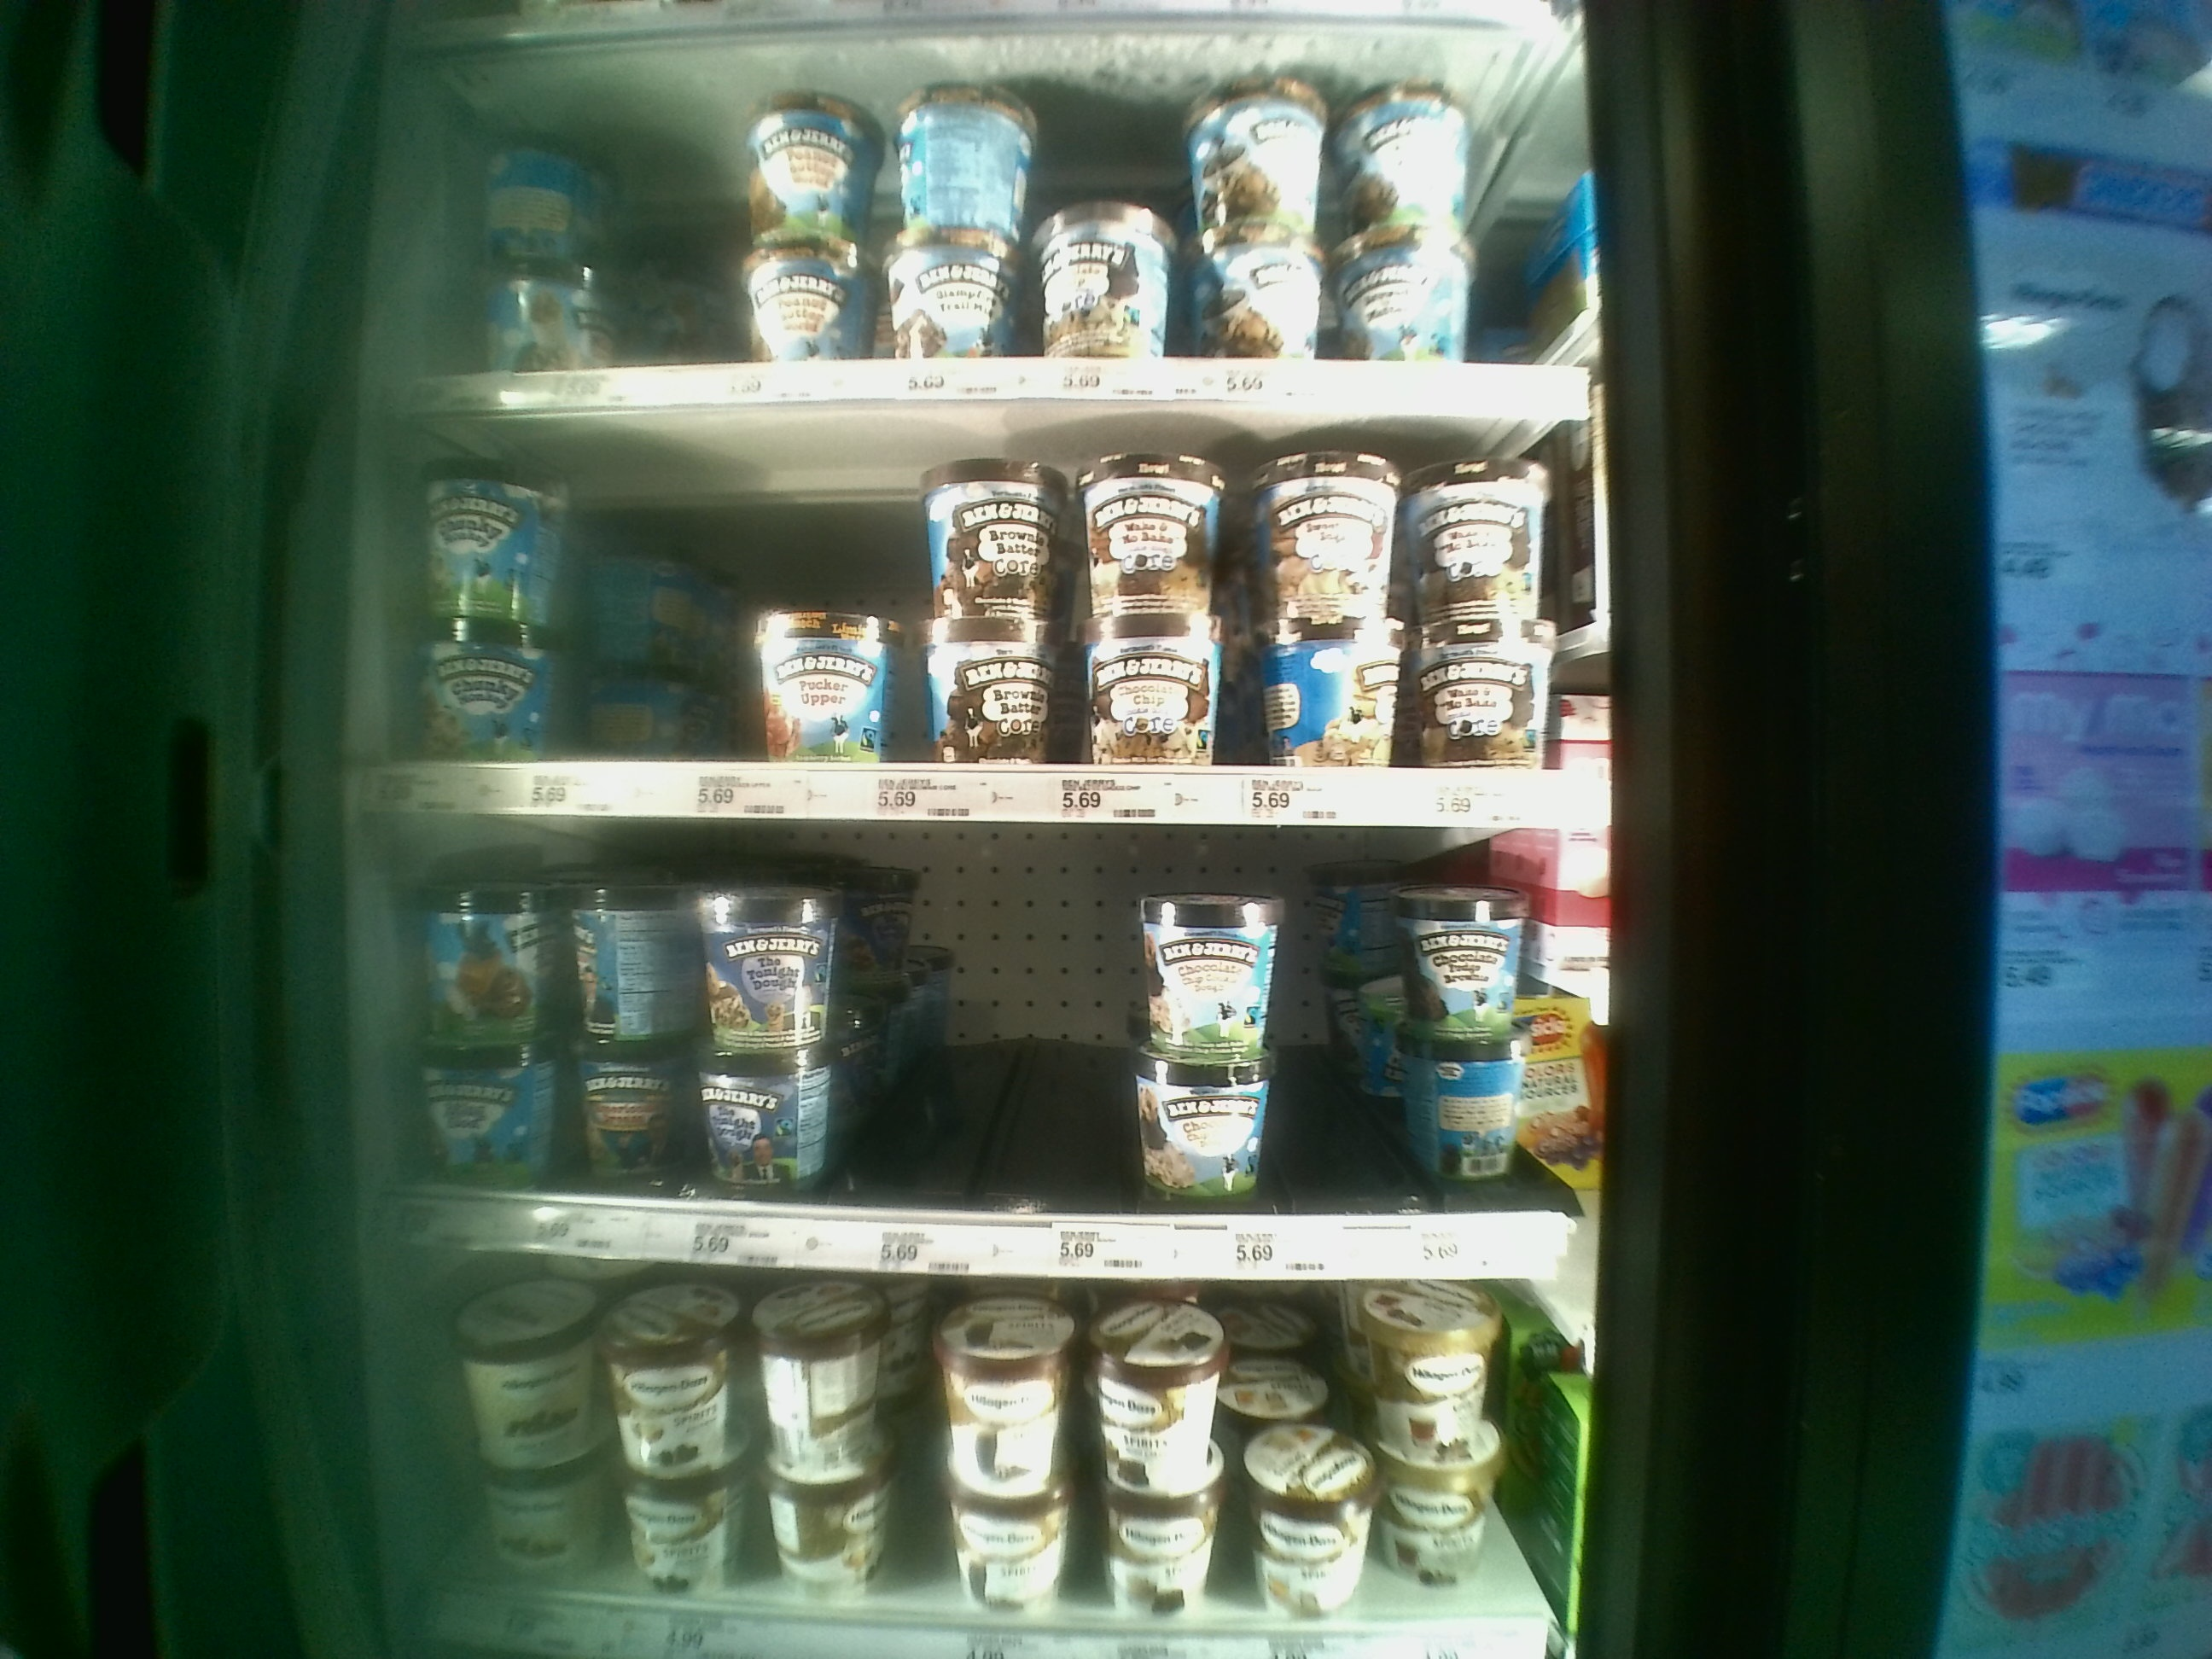shelf: (404, 824, 1590, 1279), (404, 404, 1604, 829), (420, 51, 1594, 401)
